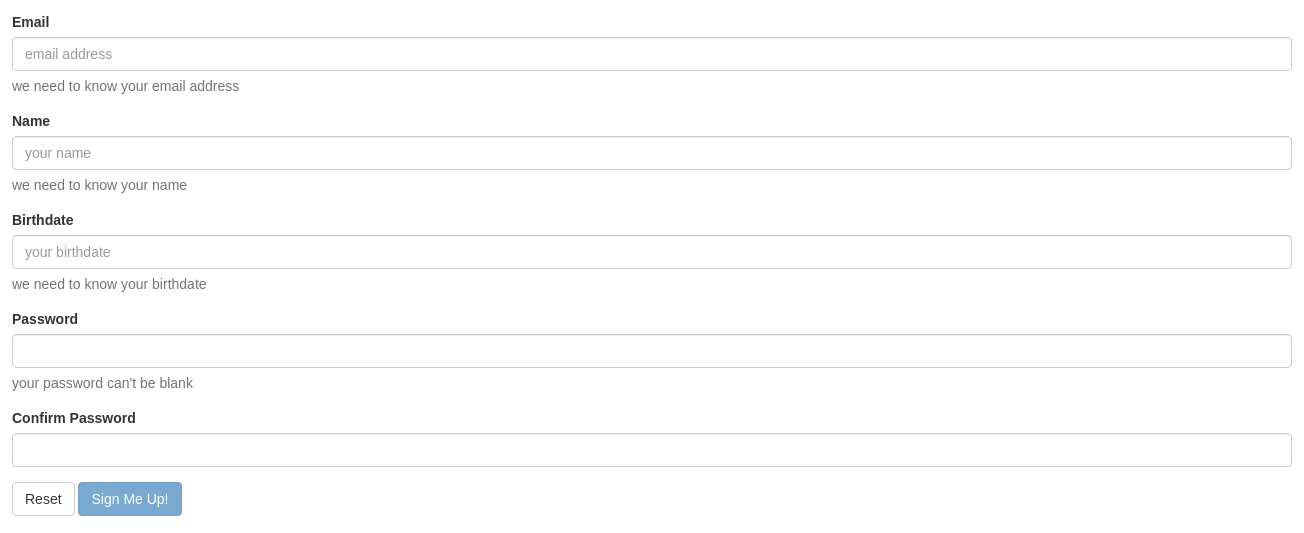
Test: Reset button › should clear email form
In the field with id "email": (652, 54) [12,37,1292,71], type "a@a.com"
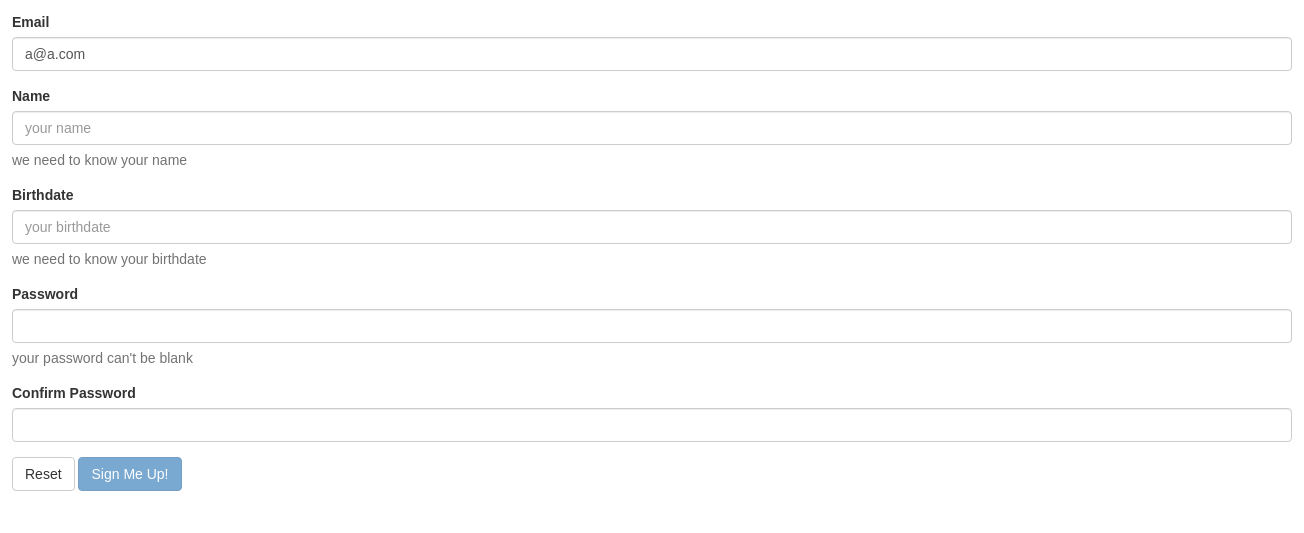
Click the button with id "resetButton": (43, 474) [12,457,75,491]
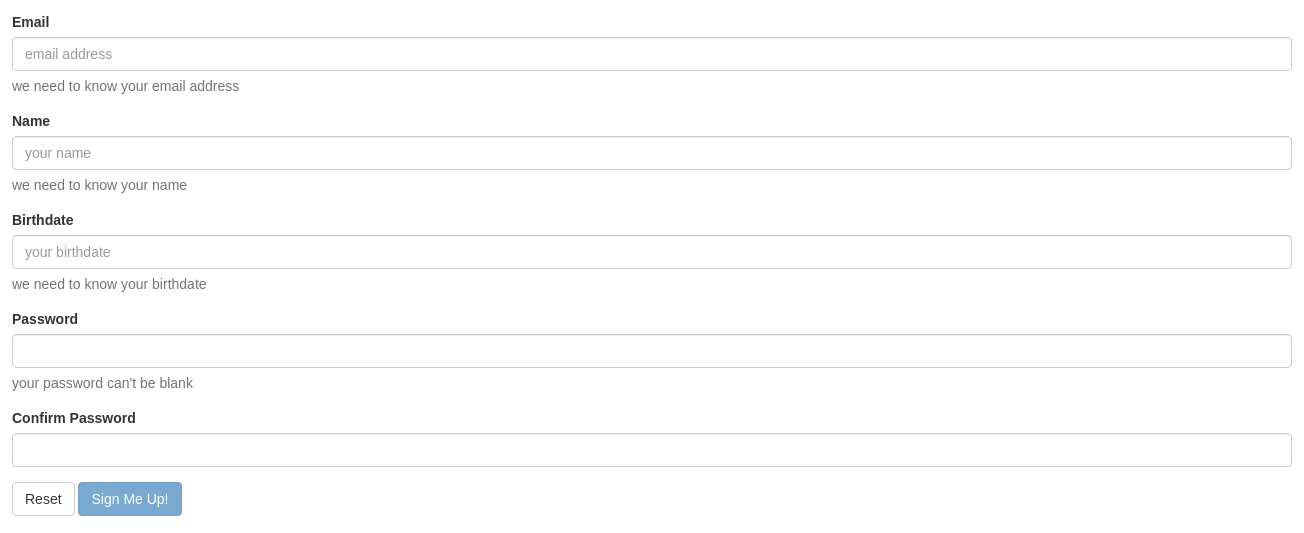
Check: the field with id "email" is empty, box [12,37,1292,71]
